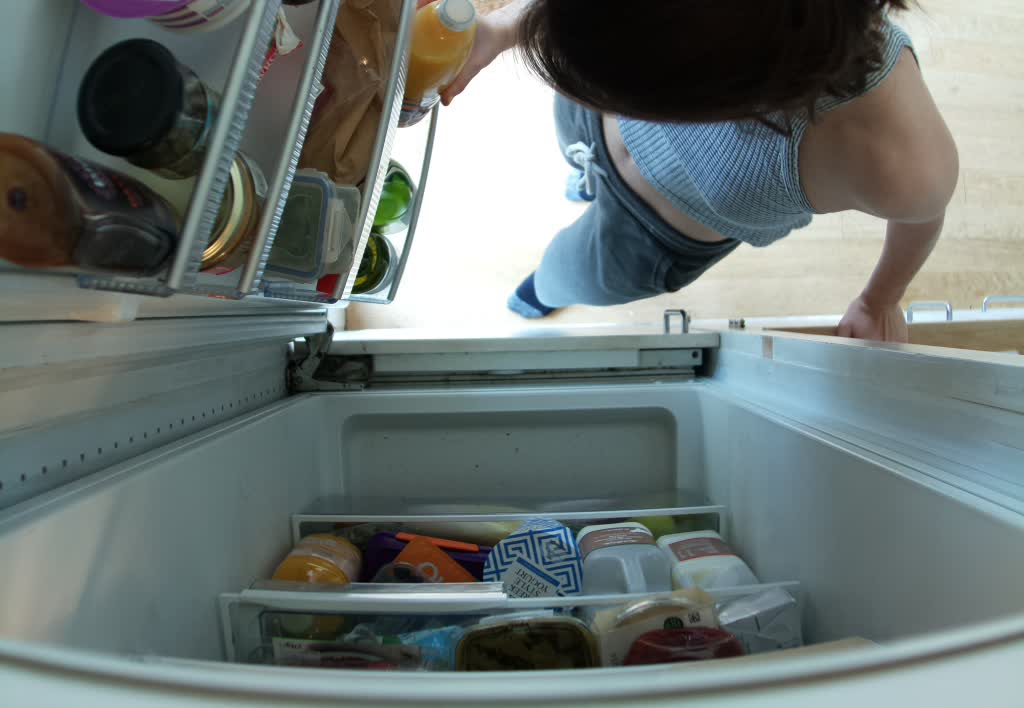juice: (394, 1, 482, 136)
